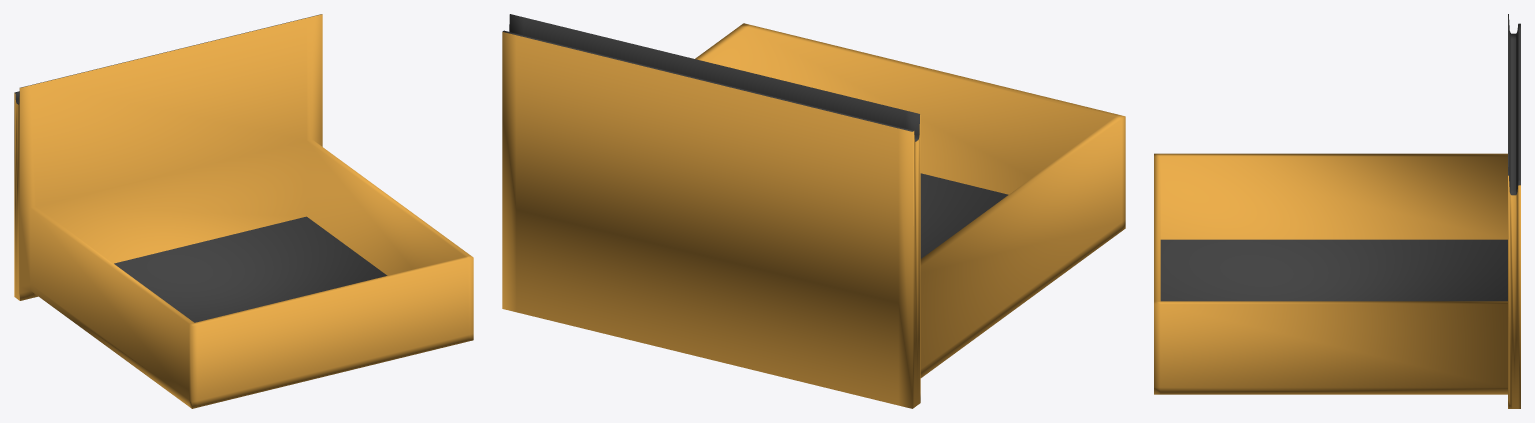
File: SchrankBreitSchublade1.fbx
The picture shows the model from 3 angles, left to right: view 1: azimuth 30°, elevation 25°; view 2: azimuth 150°, elevation 25°; view 3: azimuth 270°, elevation 25°; orthographic projection. The views are drawn at different scales.
Visible parts, largest first — view 1: Stauraum2Schublade2.001; view 2: Stauraum2Schublade2.001; view 3: Stauraum2Schublade2.001.
Boxes of the visible parts, bbox=[...] form: Stauraum2Schublade2.001: bbox=[14, 14, 473, 408]; Stauraum2Schublade2.001: bbox=[502, 14, 1125, 408]; Stauraum2Schublade2.001: bbox=[1154, 14, 1520, 408].
Size of the model in its own units: 59.42 by 40 by 57.01.
